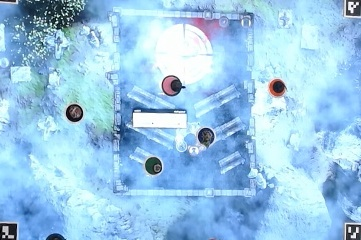black: (63, 103, 85, 126)
blue: (197, 126, 219, 149)
green: (143, 154, 166, 177)
orange: (268, 77, 291, 100)
pink_green: (160, 74, 183, 97)
